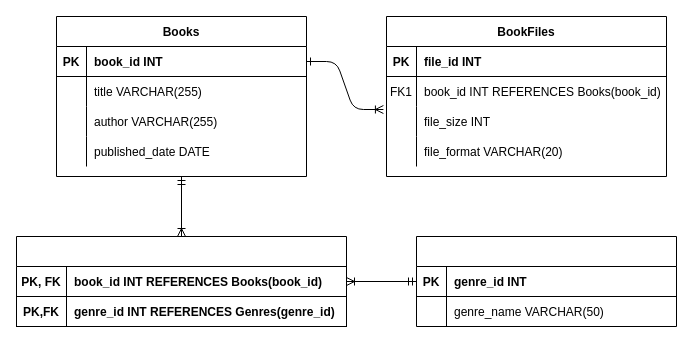
Some shapes in this 693 by 343 pixel diagram are drawn without their labels. The box of each missing label's shape, as (x1, y1, x2, y2) in pixels:
BookGenres: (16, 236, 346, 326)
Genres: (416, 236, 676, 326)
